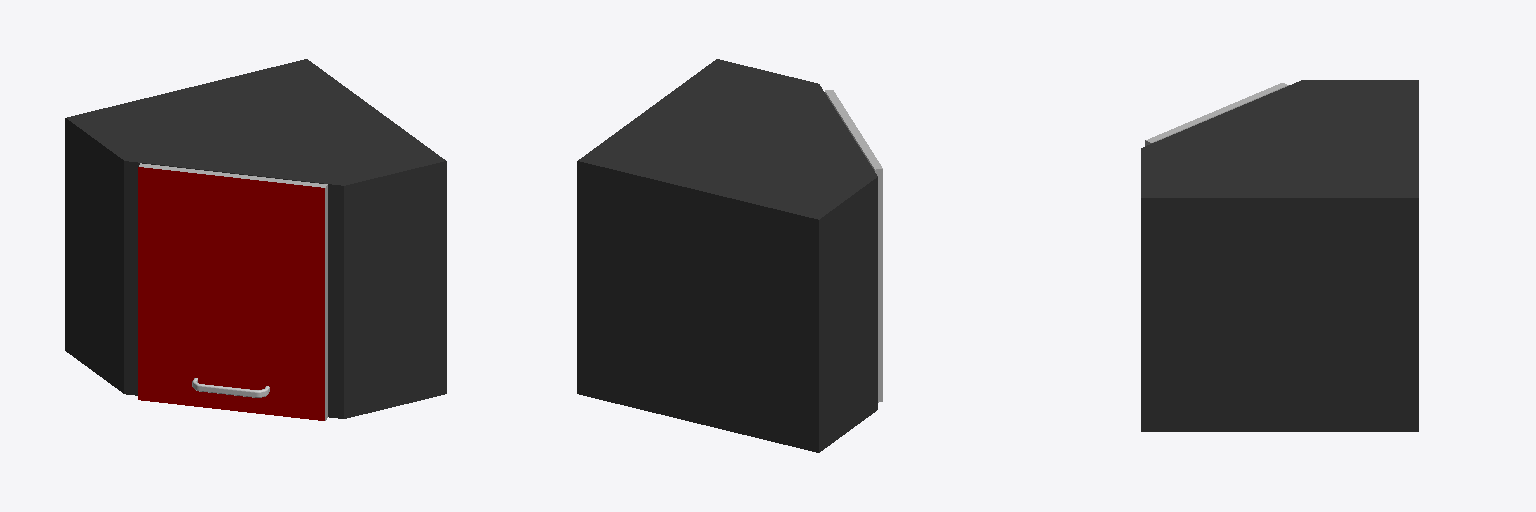
Rendered from Угловой кухонный стол.obj.
3 renders of one model, left to right at view 1: azimuth 30°, elevation 25°; view 2: azimuth 150°, elevation 25°; view 3: azimuth 270°, elevation 25°, orthographic.
Parts seen in each view (by area): view 1: Line17_1, Box152_3, Box15_2, Box153_4, Loft07_5; view 2: Line17_1, Box153_4, Box15_2; view 3: Line17_1, Box15_2.
Part boxes in pixels (x1,y1,x2,y2): Line17_1: (65, 59, 446, 418); Box152_3: (138, 167, 324, 420); Box15_2: (139, 163, 327, 187); Box153_4: (325, 185, 327, 420); Loft07_5: (192, 378, 269, 397); Line17_1: (577, 59, 877, 452); Box153_4: (825, 92, 882, 402); Box15_2: (825, 90, 882, 169); Line17_1: (1141, 80, 1418, 431); Box15_2: (1146, 83, 1287, 142).
Bounding box in the file's own units: 65 × 60 × 65.